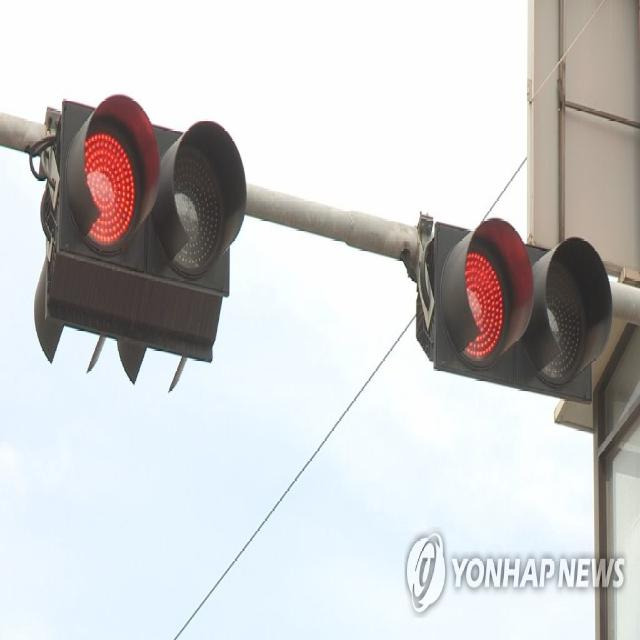Red Light: (66, 104, 147, 259), (449, 224, 518, 365)
